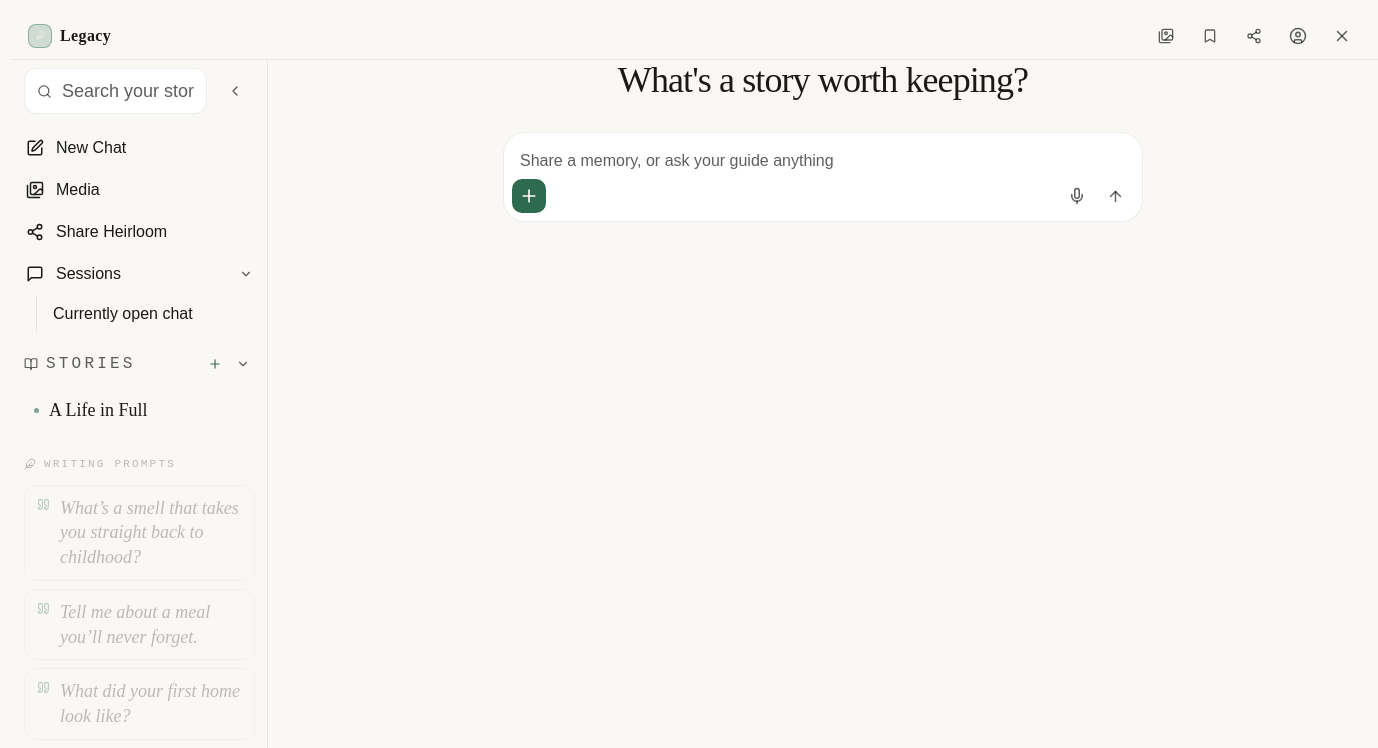
Deck rail collapse — desktop › clicking the rail returns to the full Deck, same as the editor's own close button
The width and height of the screenshot is (1378, 748).
Step 1. Click the button "A Life in Full" → {"x": 110, "y": 410}, box x1=24 y1=388 x2=195 y2=432
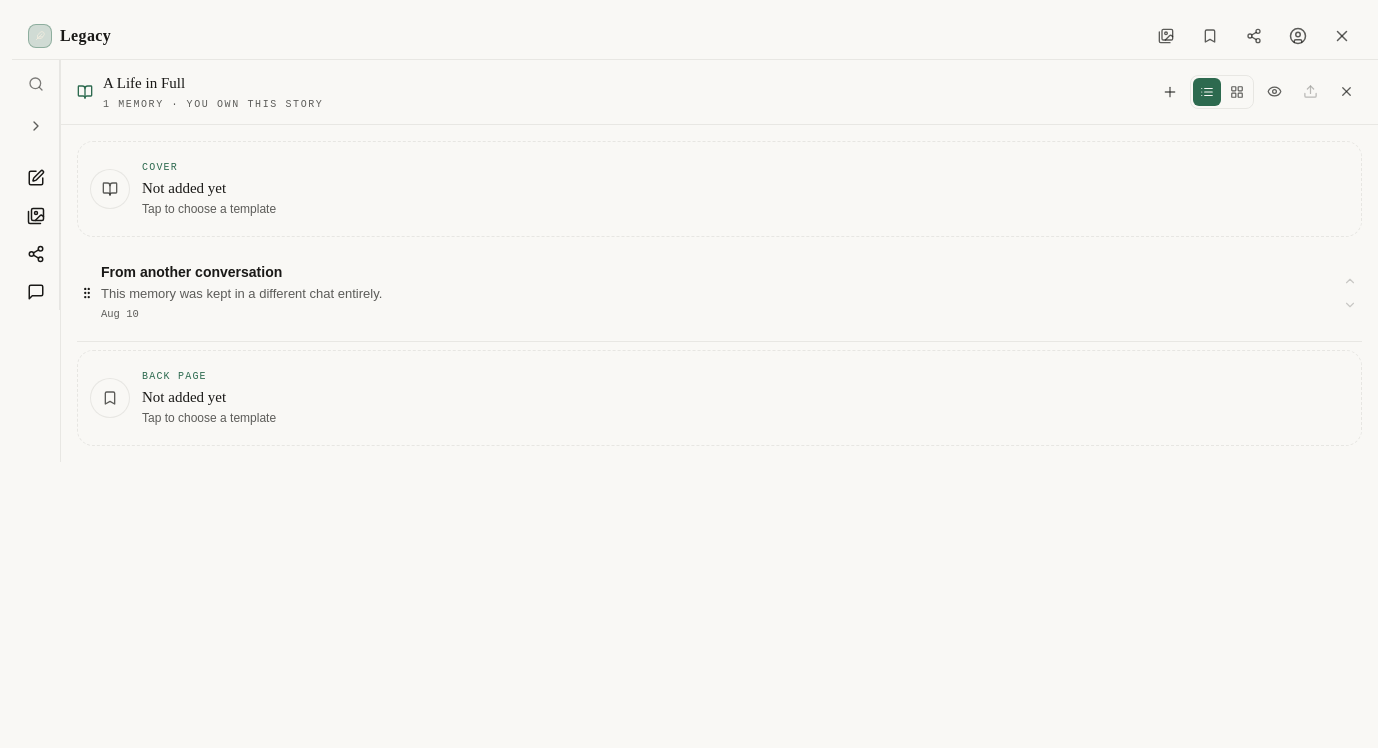
expect the text "From another conversation" is shown: met, box x1=101 y1=264 x2=282 y2=280
Step 2. Click the button "From another conversation" → {"x": 192, "y": 272}, box x1=97 y1=244 x2=1338 y2=340
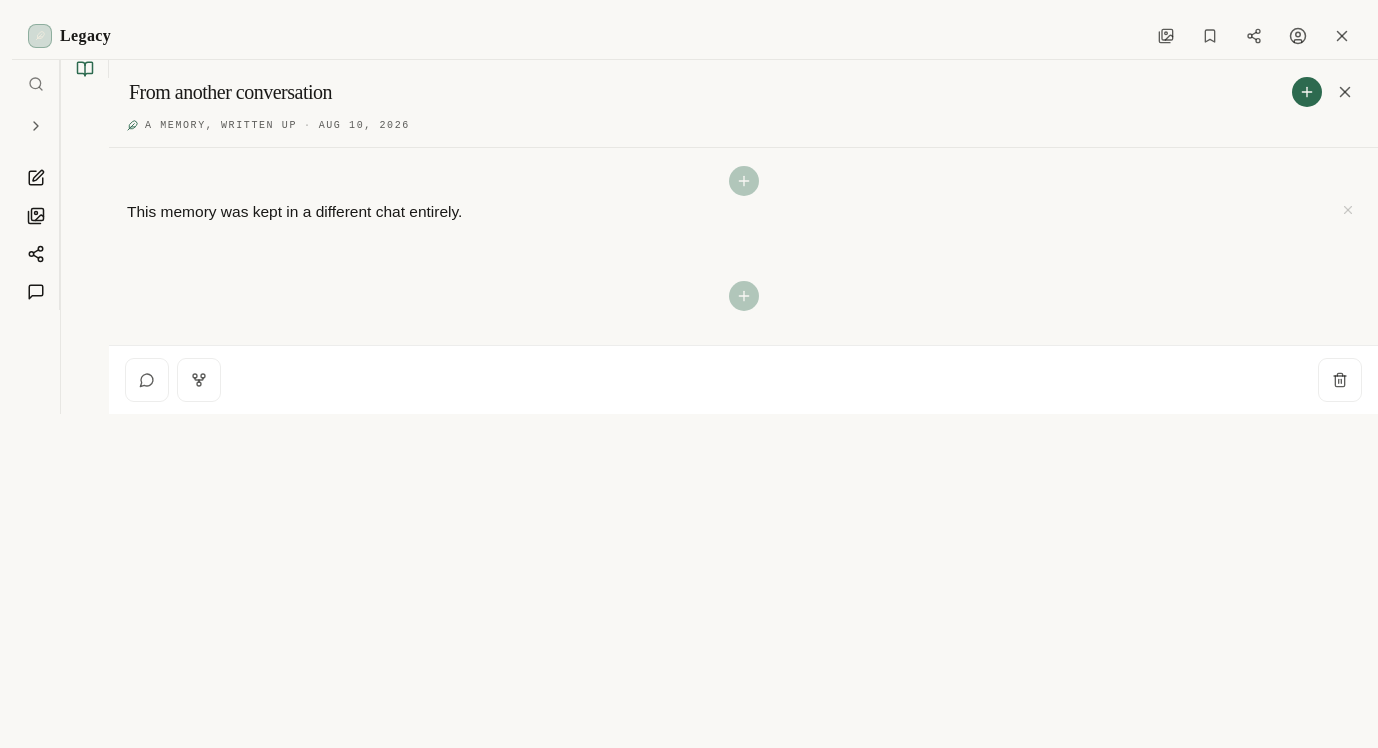
expect the button named "Expand A Life in Full" is shown: met
Step 3. Click the button named "Expand A Life in Full" → {"x": 85, "y": 69}, box x1=61 y1=60 x2=109 y2=78
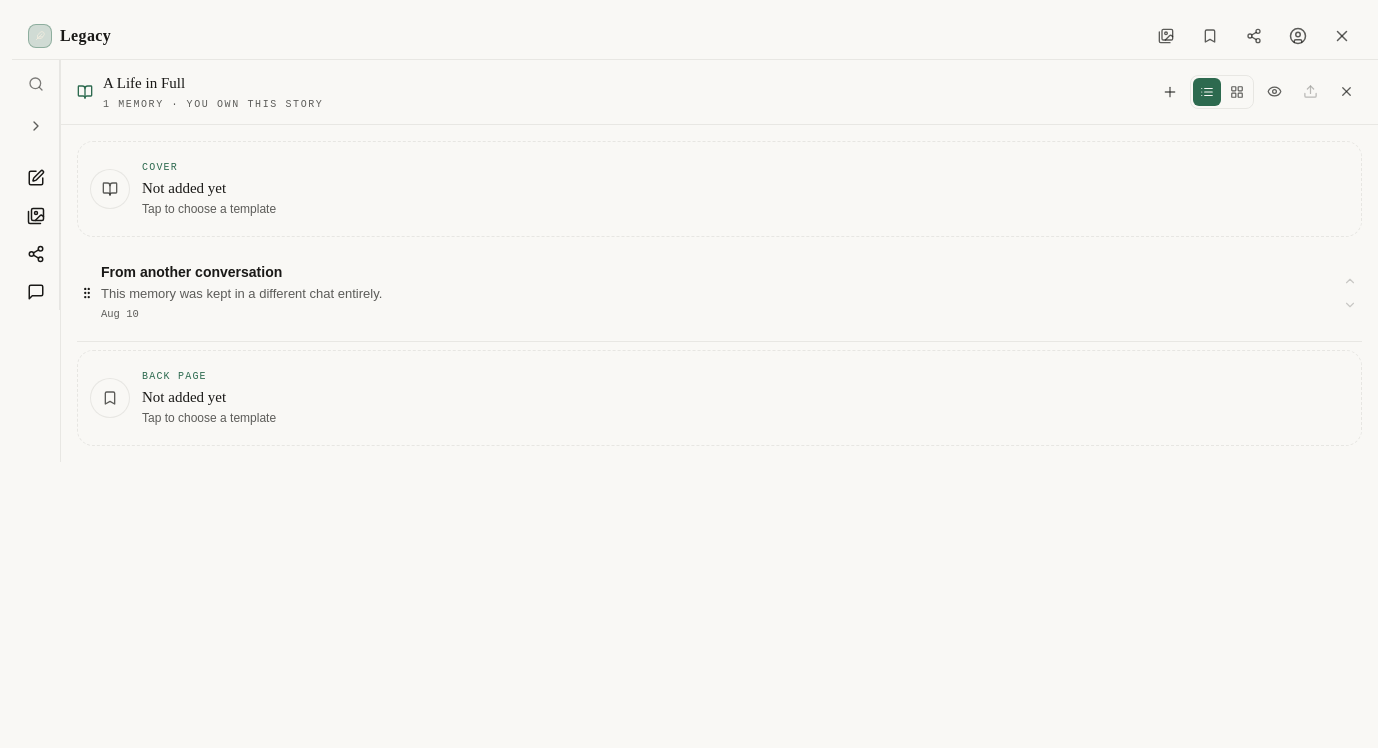
expect the text "From another conversation" is shown: met, box x1=101 y1=264 x2=282 y2=280
